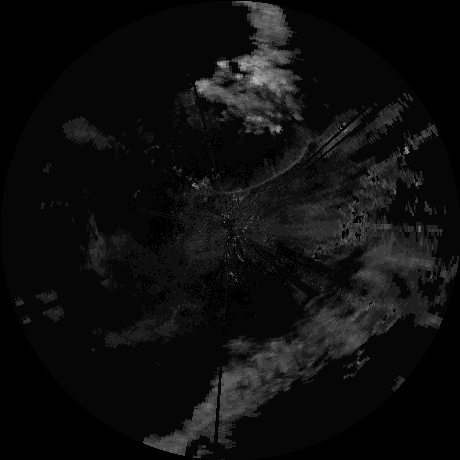frontgust: (209, 139, 309, 196)
